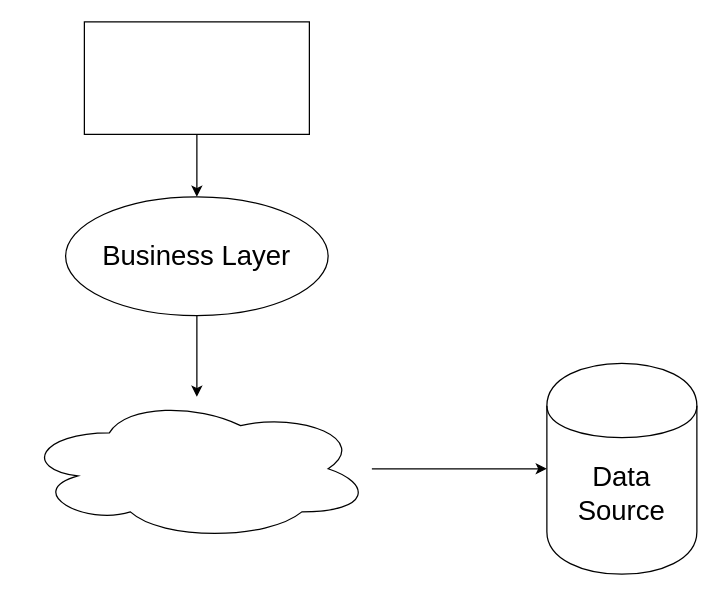
The diagram is 719 pixels wide and 596 high, and some of its shapes have lost their labels. The box of each missing label's shape, as (x1, y1, x2, y2) in pixels:
Application: (83, 21, 309, 134)
Service Layer: (21, 396, 372, 541)
